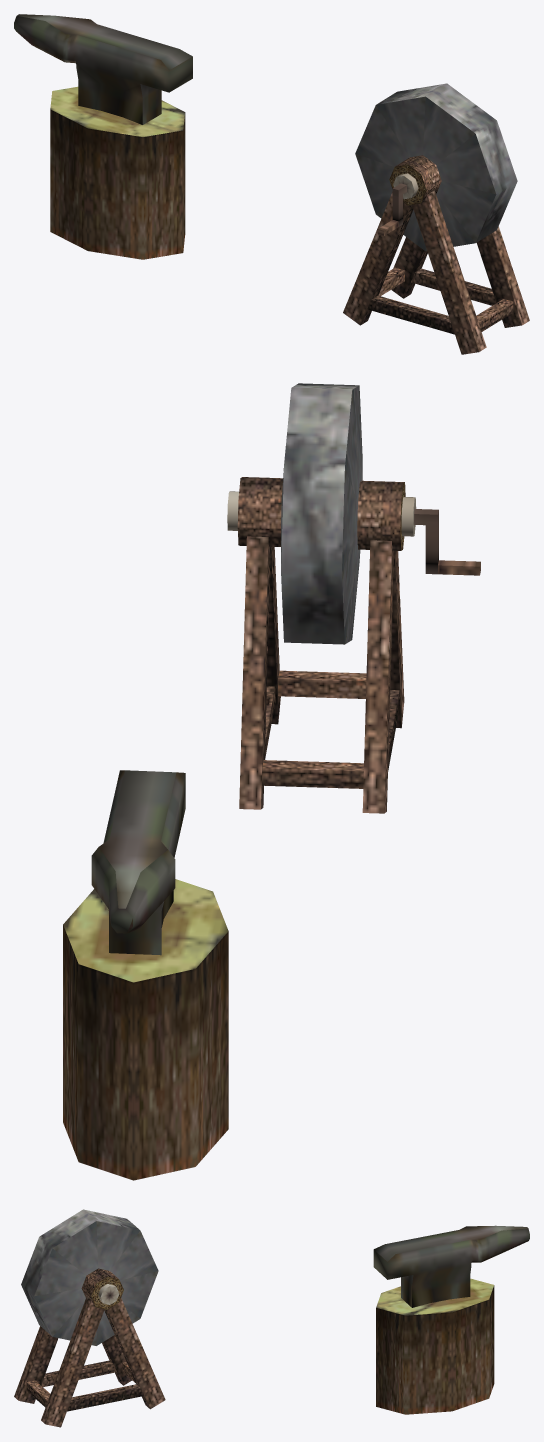
The model's file is germ_forge_anvil.dae.
The picture shows the model from 3 angles, top to bottom: view 1: azimuth 30°, elevation 25°; view 2: azimuth 150°, elevation 25°; view 3: azimuth 270°, elevation 25°; orthographic projection. The views are drawn at different scales.
Visible parts, largest first — view 1: Blacksmith Props; view 2: Blacksmith Props; view 3: Blacksmith Props.
Part boxes in pixels (x1,y1,x2,y2): Blacksmith Props: [14, 14, 529, 354]; Blacksmith Props: [63, 383, 480, 1180]; Blacksmith Props: [14, 1209, 529, 1427].
Bounding box in the file's own units: 3.29 × 8.27 × 3.91.
